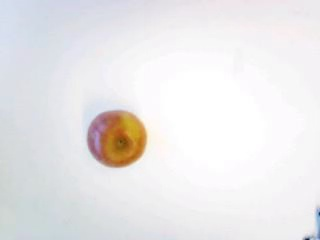apple: (86, 107, 147, 167)
